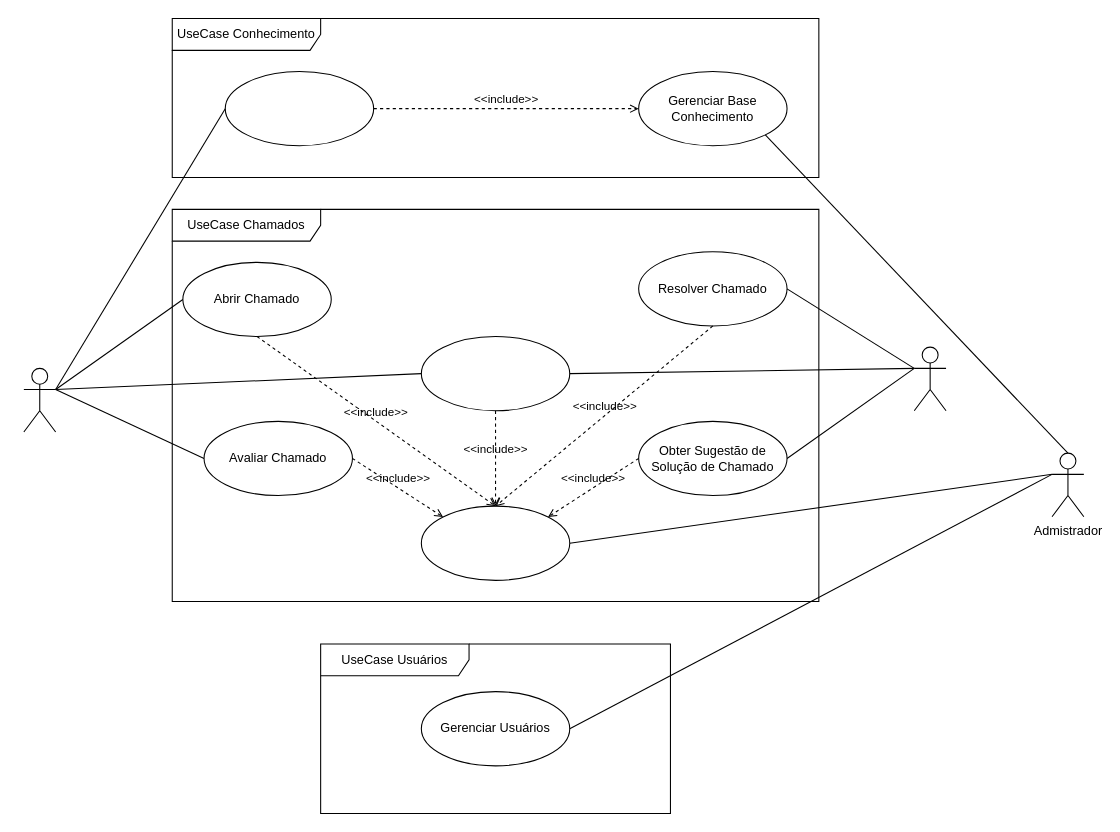
Some shapes in this 1120 by 832 pixel diagram are drawn without their labels. The centre of each missing label's shape, as x and y in pixels:
Atendente: point 929,378
Consultar Base Conhecimento: point 299,108
Consultar Chamado: point 495,373
Gerenciar Chamados: point 495,542
Usuário: point 39,399
